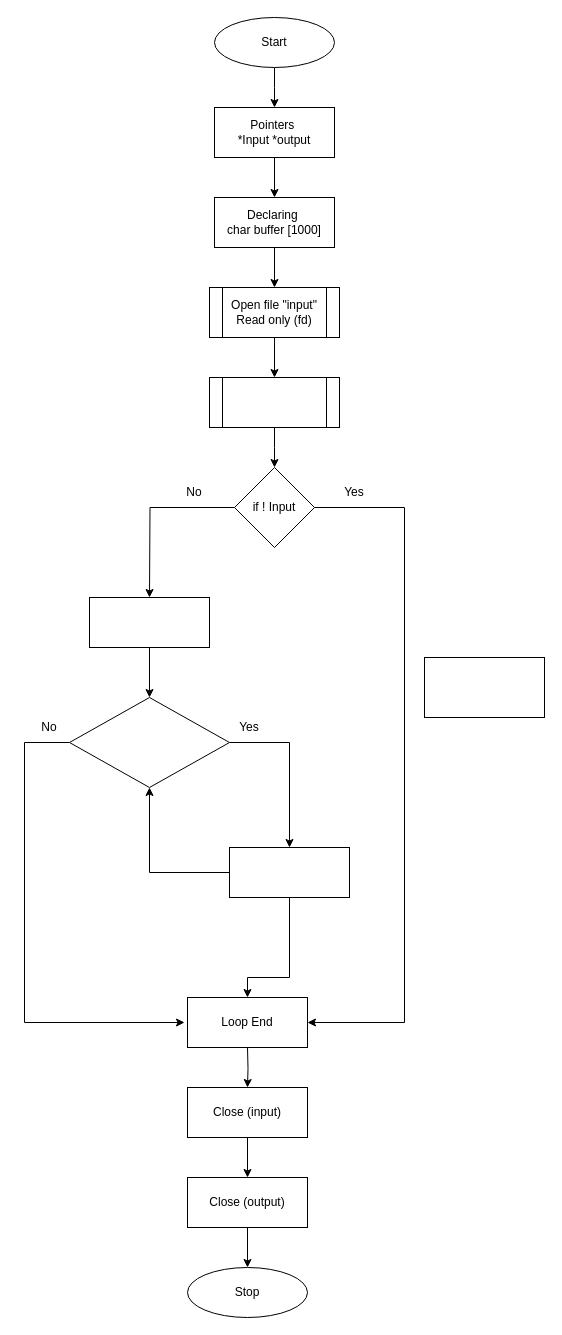
This 562x1335 diagram has some shape labels left out. Here are the shapes that lost their labels. From the top down, the box of each, then its label:
(208, 376, 340, 428): Open file "output" write only
(88, 596, 210, 648): While
(424, 656, 544, 718): K Srikanth 17ETCS001214
(68, 696, 230, 788): fgets input != NULL
(228, 846, 350, 898): fputs (output)
